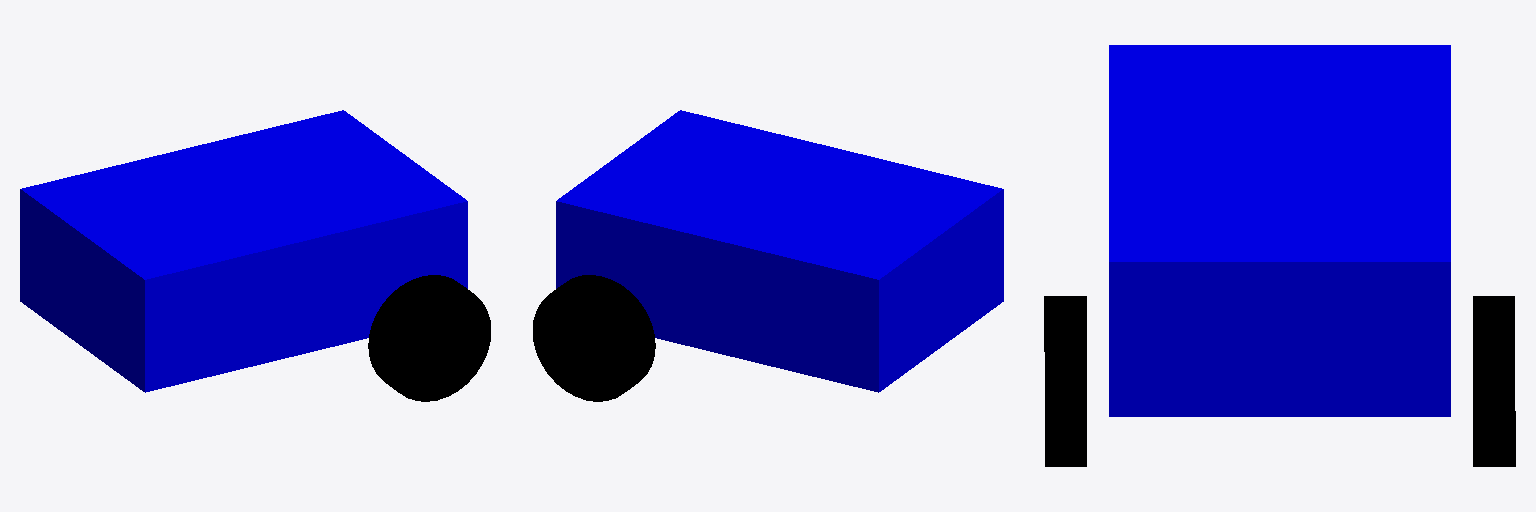
URDF robot description (tulpar_robot):
<?xml version="1.0"?>
<robot name="tulpar_robot">

  <link name="base_link">
    <visual>
      <geometry><box size="0.6 0.4 0.2"/></geometry>
      <material name="blue"><color rgba="0 0 1 1"/></material>
    </visual>
    <collision>
      <geometry><box size="0.6 0.4 0.2"/></geometry>
    </collision>
    <inertial>
      <mass value="5.0"/>
      <inertia ixx="0.1" ixy="0" ixz="0" iyy="0.1" iyz="0" izz="0.1"/>
    </inertial>
  </link>

  <link name="left_wheel">
    <visual>
      <geometry><cylinder radius="0.1" length="0.05"/></geometry>
      <material name="black"><color rgba="0 0 0 1"/></material>
    </visual>
    <collision>
      <geometry><cylinder radius="0.1" length="0.05"/></geometry>
    </collision>
    <inertial>
      <mass value="0.5"/>
      <inertia ixx="0.01" ixy="0" ixz="0" iyy="0.01" iyz="0" izz="0.01"/>
    </inertial>
  </link>

  <joint name="left_wheel_joint" type="continuous">
    <parent link="base_link"/>
    <child link="left_wheel"/>
    <origin xyz="0.2 0.25 -0.1" rpy="-1.57 0 0"/>
    <axis xyz="0 0 1"/>
  </joint>

  <link name="right_wheel">
    <visual>
      <geometry><cylinder radius="0.1" length="0.05"/></geometry>
      <material name="black"><color rgba="0 0 0 1"/></material>
    </visual>
    <collision>
      <geometry><cylinder radius="0.1" length="0.05"/></geometry>
    </collision>
    <inertial>
      <mass value="0.5"/>
      <inertia ixx="0.01" ixy="0" ixz="0" iyy="0.01" iyz="0" izz="0.01"/>
    </inertial>
  </link>

  <joint name="right_wheel_joint" type="continuous">
    <parent link="base_link"/>
    <child link="right_wheel"/>
    <origin xyz="0.2 -0.25 -0.1" rpy="-1.57 0 0"/>
    <axis xyz="0 0 1"/>
  </joint>

  <gazebo>
    <plugin name="tulpar_drive" filename="libgazebo_ros_diff_drive.so">
      <ros>
        <namespace>/</namespace>
      </ros>
      <left_joint>left_wheel_joint</left_joint>
      <right_joint>right_wheel_joint</right_joint>
      <wheel_separation>0.5</wheel_separation>
      <wheel_diameter>0.2</wheel_diameter>
      <max_wheel_torque>20</max_wheel_torque>
      <max_wheel_acceleration>1.0</max_wheel_acceleration>
      <command_topic>cmd_vel</command_topic>
      <odometry_topic>odom</odometry_topic>
      <publish_odom>true</publish_odom>
      <publish_odom_tf>true</publish_odom_tf>
      <robot_base_frame>base_link</robot_base_frame>
    </plugin>
  </gazebo>

</robot>

--- Facts derived from the render (not from the file) ---
Views: 3 orthographic renders of the robot side by side, from view 1: azimuth 30°, elevation 25°; view 2: azimuth 150°, elevation 25°; view 3: azimuth 270°, elevation 25°.
Model tulpar_robot with 3 links and 2 joints (2 continuous), rooted at base_link, posed every joint at zero.
Visible links, largest first — view 1: base_link, right_wheel; view 2: base_link, left_wheel; view 3: base_link, left_wheel, right_wheel.
Link boxes in pixels (x1,y1,x2,y2): base_link: [20, 110, 467, 392]; right_wheel: [368, 275, 490, 401]; base_link: [556, 110, 1003, 392]; left_wheel: [533, 275, 655, 401]; base_link: [1109, 45, 1450, 416]; left_wheel: [1473, 296, 1515, 466]; right_wheel: [1044, 296, 1086, 466].
Size in the robot's own frame: 0.6 by 0.5502 by 0.3 metres.
Geometry: primitives only (box / cylinder / sphere), no mesh files.
